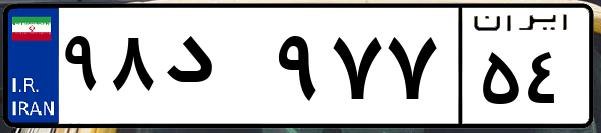4: (525, 38, 570, 115)
5: (475, 38, 525, 113)
7: (385, 28, 445, 110), (330, 28, 385, 110)
8: (110, 28, 158, 98)
9: (270, 28, 330, 110), (57, 26, 110, 100)
د: (158, 20, 270, 120)
